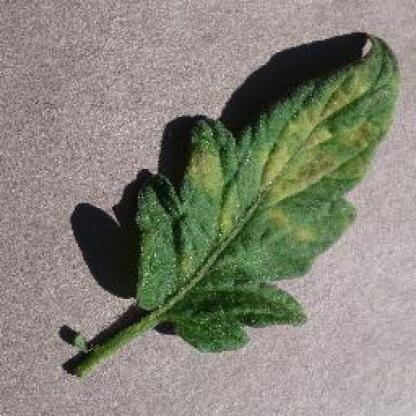Tomato_Leaf_Mold: (132, 34, 396, 351)
